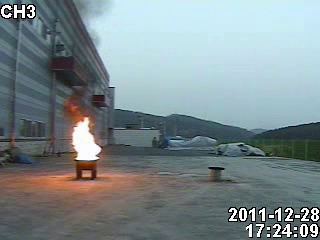fire: (71, 114, 102, 162)
